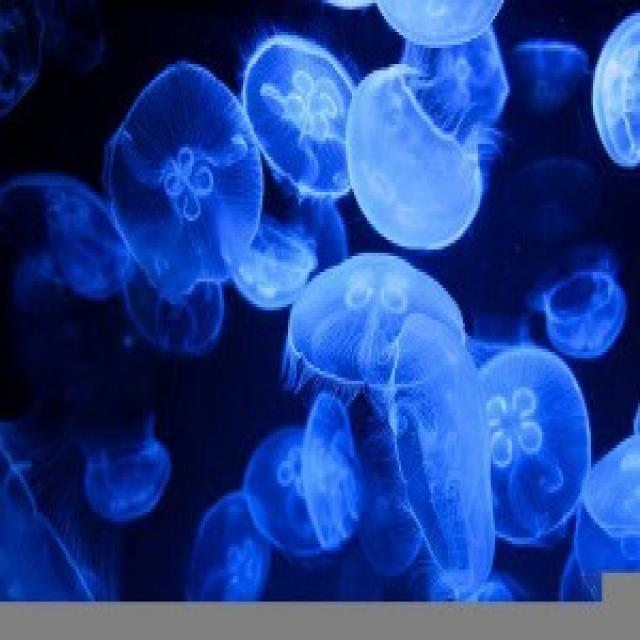Jellyfish: (376, 305, 499, 595), (108, 63, 262, 275), (272, 255, 474, 383), (340, 70, 483, 250), (471, 344, 594, 546), (240, 41, 352, 209), (235, 424, 337, 564), (73, 415, 183, 532), (186, 484, 271, 611), (588, 0, 640, 179), (543, 256, 631, 358)
